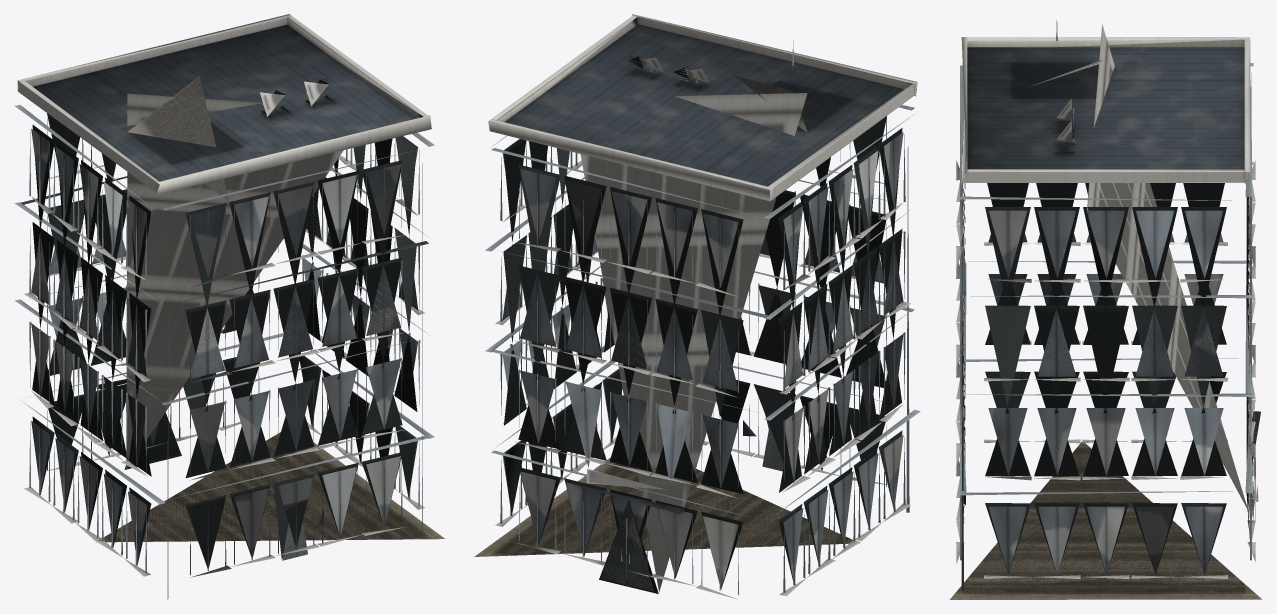
The model's file is office_002.lod2.obj.
3 views of the same model, side by side, from view 1: azimuth 30°, elevation 25°; view 2: azimuth 150°, elevation 25°; view 3: azimuth 270°, elevation 25° (orthographic). The views are drawn at different scales.
Parts seen in each view (by area): view 1: office_002; view 2: office_002; view 3: office_002.
Boxes of the visible parts, <box> form: office_002: <box>14,14,444,599</box>; office_002: <box>474,14,920,599</box>; office_002: <box>950,20,1261,599</box>.
Bounding box in the file's own units: 9.1 × 14.57 × 8.54.
1 material, 1 textured.
